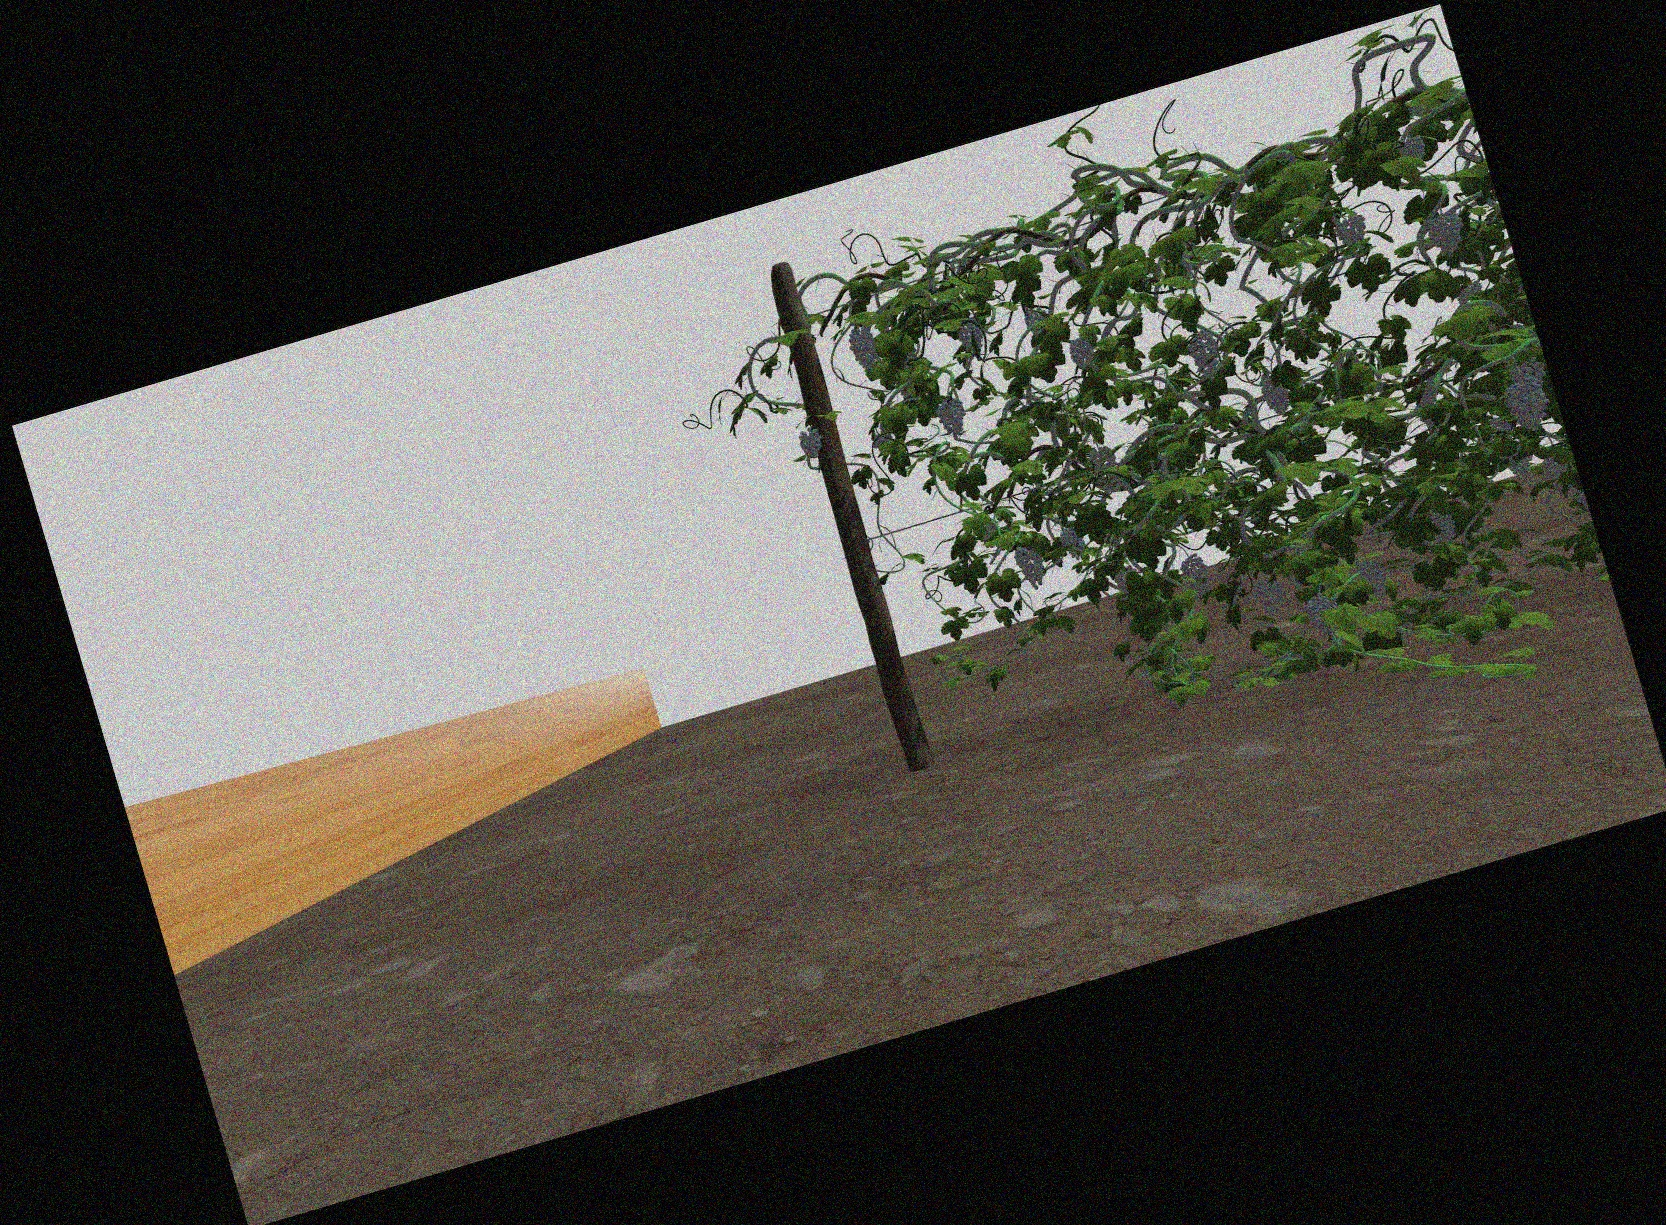grape: (1509, 379, 1547, 431), (1429, 210, 1464, 256), (1306, 592, 1339, 635), (1187, 331, 1218, 373), (1182, 554, 1211, 598), (1015, 545, 1043, 589), (1359, 558, 1388, 599), (1335, 210, 1367, 246), (850, 326, 877, 369), (939, 398, 968, 439), (1262, 374, 1290, 415), (1256, 577, 1284, 616), (1431, 506, 1454, 541), (960, 323, 984, 356), (1070, 338, 1094, 369), (1062, 526, 1087, 558), (799, 428, 824, 458), (1024, 308, 1048, 334), (1403, 135, 1425, 160)
